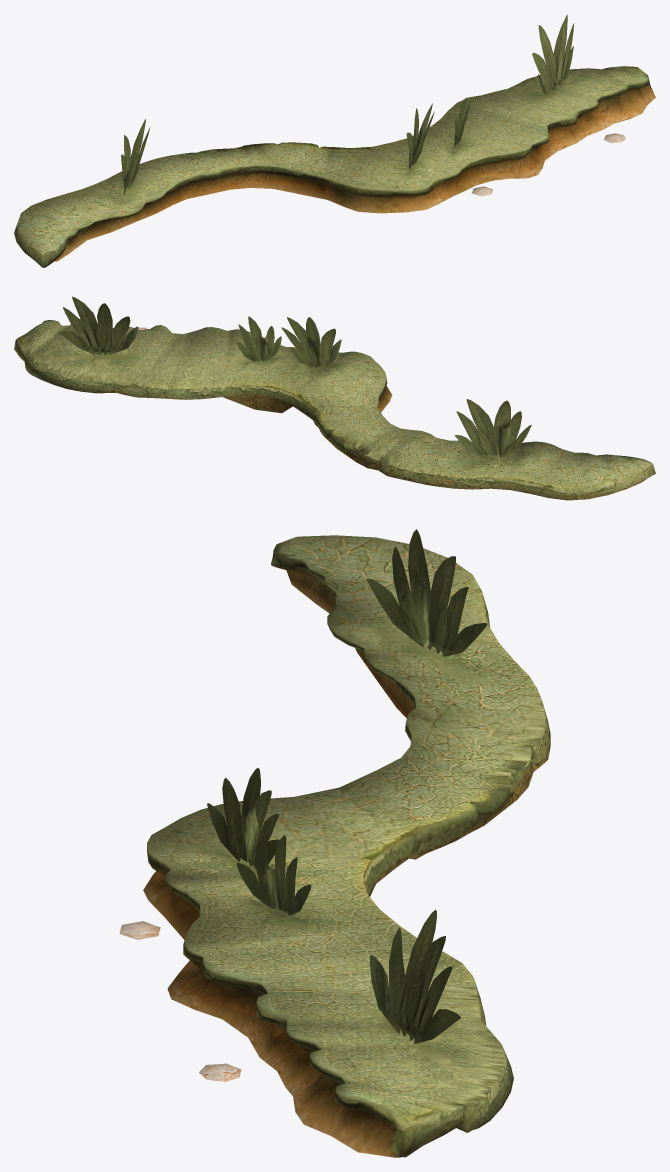
Rendered from riverbank-land.glb.
3 views of the same model, one above another, from view 1: azimuth 30°, elevation 25°; view 2: azimuth 150°, elevation 25°; view 3: azimuth 270°, elevation 25° (orthographic). The views are drawn at different scales.
Visible parts, largest first — view 1: tripo_node_9a35178f-28f2-4d19-ab3c-602488eb6b88; view 2: tripo_node_9a35178f-28f2-4d19-ab3c-602488eb6b88; view 3: tripo_node_9a35178f-28f2-4d19-ab3c-602488eb6b88.
Part boxes in pixels (x1,y1,x2,y2): tripo_node_9a35178f-28f2-4d19-ab3c-602488eb6b88: [14, 14, 655, 267]; tripo_node_9a35178f-28f2-4d19-ab3c-602488eb6b88: [14, 296, 655, 500]; tripo_node_9a35178f-28f2-4d19-ab3c-602488eb6b88: [119, 529, 550, 1157].
Size of the model in its own units: 0.9038 by 0.1245 by 0.2764.
Materials: 1 (1 with a texture image).
